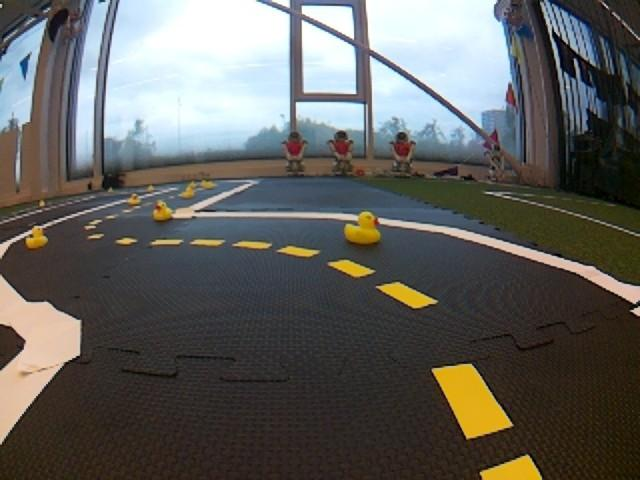Duckies: (344, 208, 382, 246), (24, 225, 51, 250), (152, 198, 174, 221), (126, 192, 142, 206), (180, 186, 195, 200), (199, 179, 216, 190), (187, 178, 197, 189), (145, 183, 155, 192), (38, 199, 46, 208), (108, 187, 114, 193)
